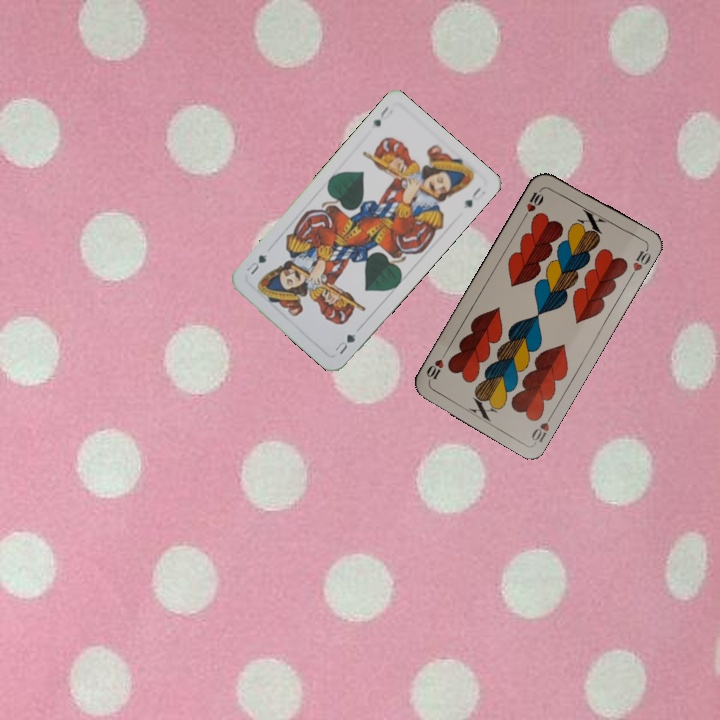GU: (329, 330, 358, 357), (369, 101, 396, 129)
H10: (527, 408, 556, 446), (520, 184, 546, 221)
